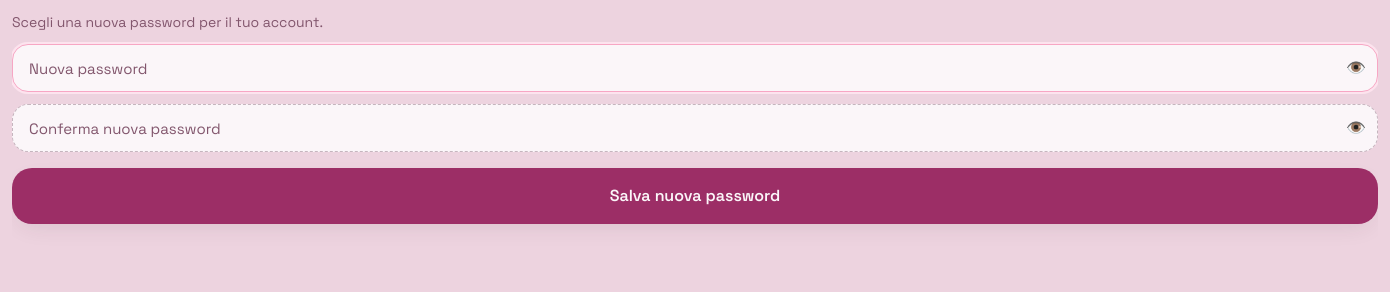
ResetPasswordForm › mostra un errore e NON chiama updatePassword se le due password non coincidono
Type "Password123" into the password field with placeholder "Nuova password" at (695, 68), box [12,44,1378,92]
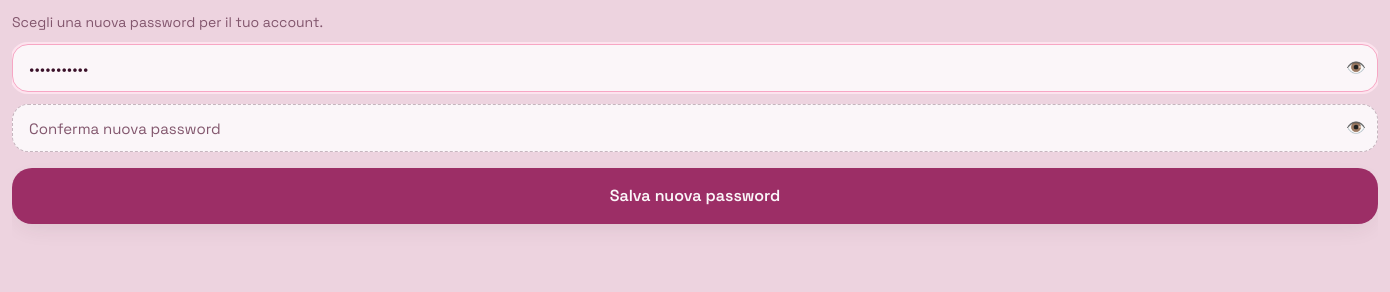
Type "Password456" into the password field with placeholder "Conferma nuova password" at (695, 128), box [12,104,1378,152]
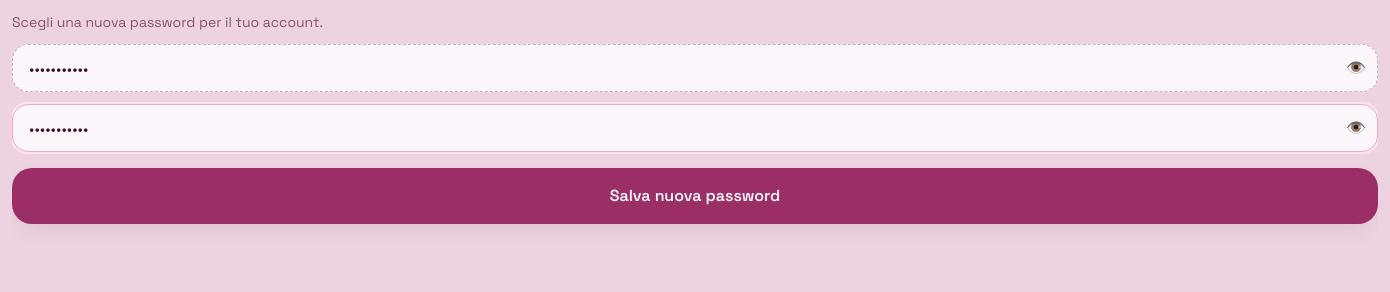
Click the button "Salva nuova password" at (695, 196), box [12,168,1378,224]
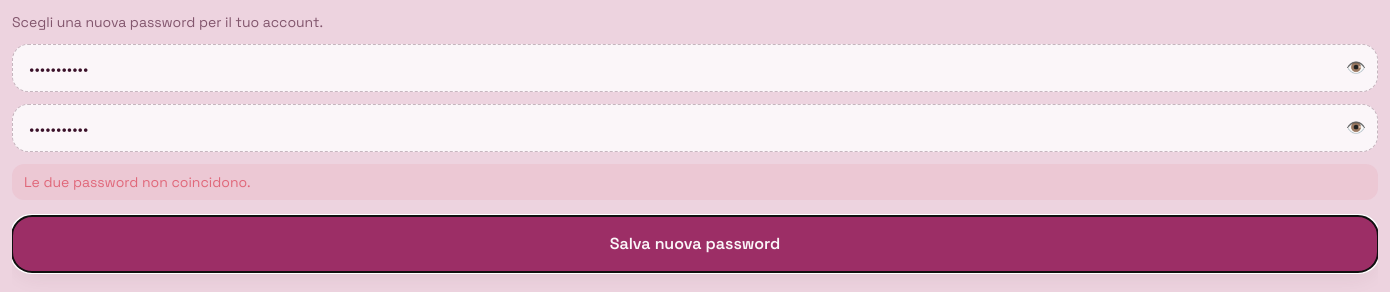
Result: the text "Le due password non coincidono." is shown at [12,164,1378,200]
